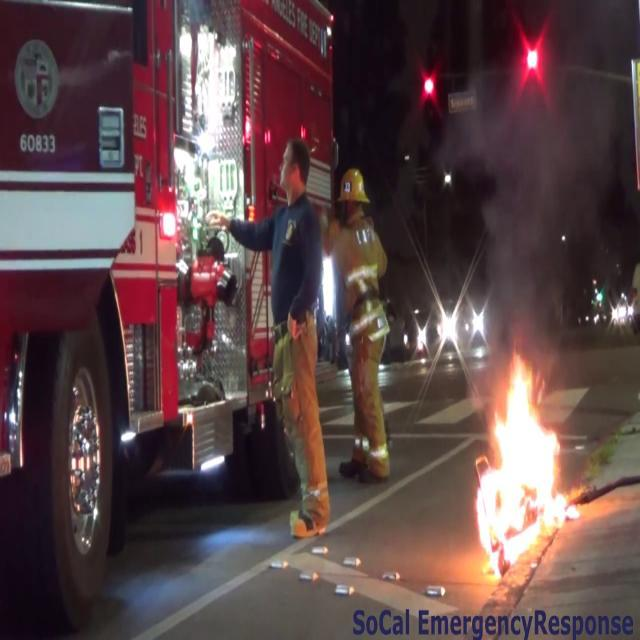Fire: (469, 348, 578, 578)
Smoke: (462, 1, 628, 346)
